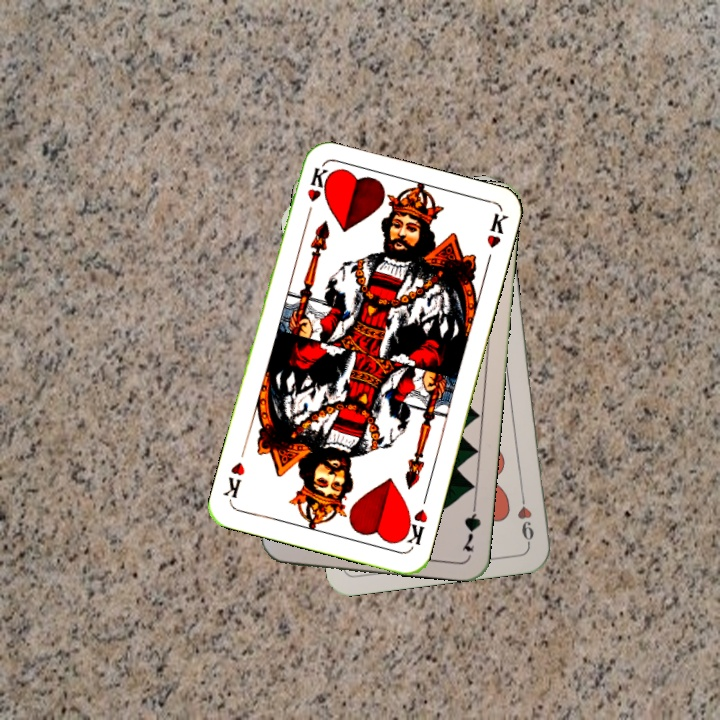G7: (458, 496, 483, 554)
H9: (513, 488, 537, 547)
HK: (398, 492, 430, 550), (302, 163, 331, 222)
